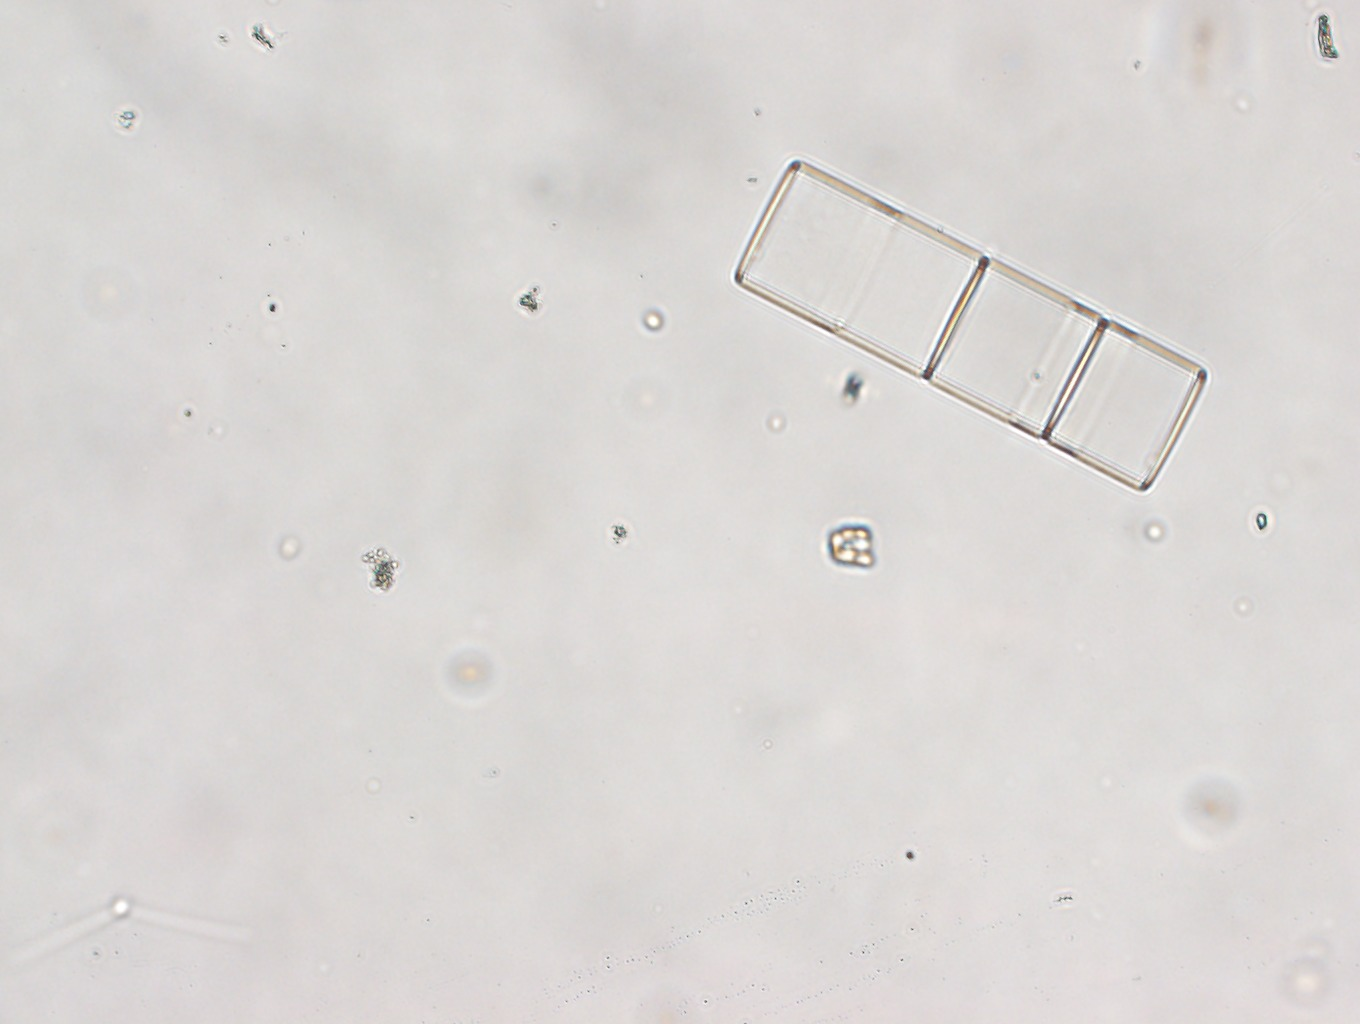guinardia flaccida: (728, 151, 1212, 503)
